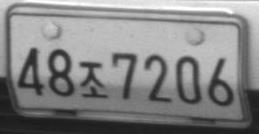0: (175, 55, 202, 104)
2: (143, 54, 172, 102)
4: (17, 48, 44, 94)
6: (207, 58, 234, 107)
7: (111, 52, 138, 99)
8: (47, 48, 74, 96)
조: (77, 61, 108, 98)
